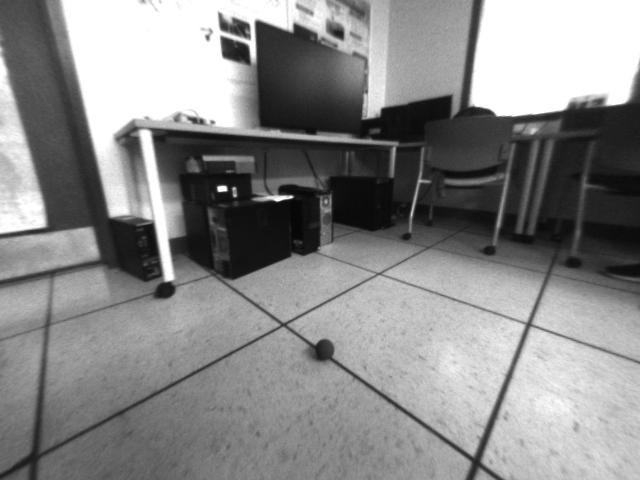dogtoy: (308, 333, 340, 364)
